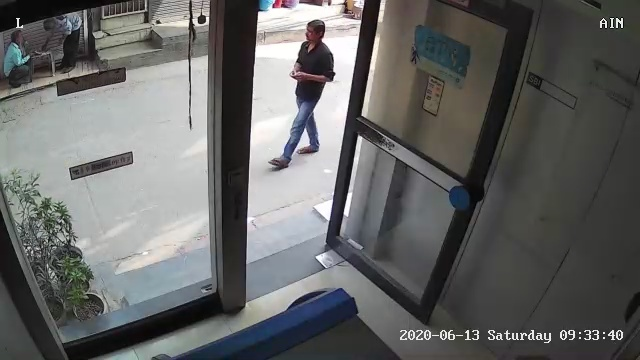open: (195, 3, 521, 332)
